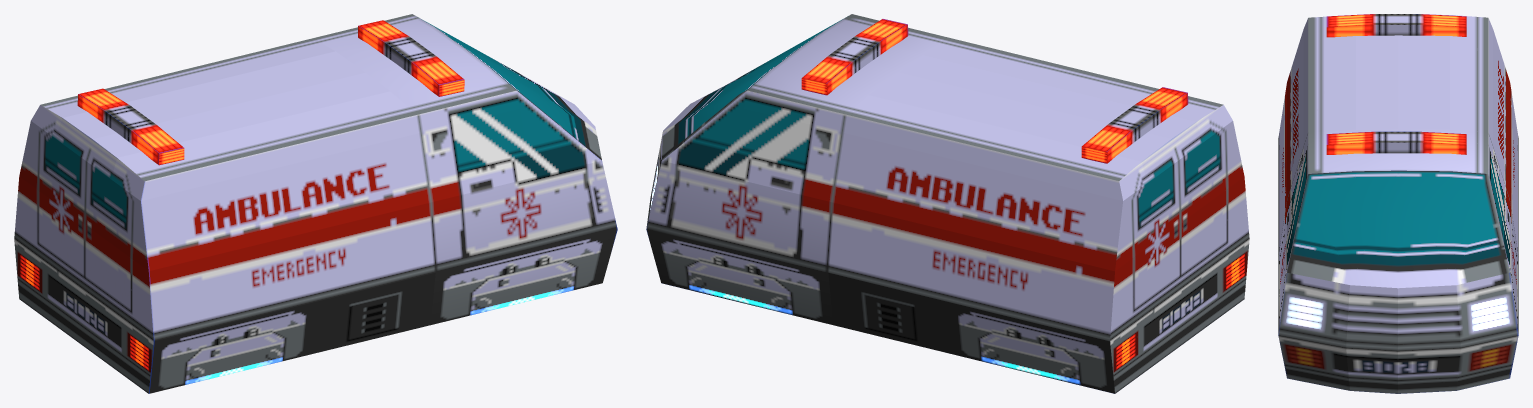
File: ambulance.FBX
The picture shows the model from 3 angles, left to right: view 1: azimuth 30°, elevation 25°; view 2: azimuth 150°, elevation 25°; view 3: azimuth 270°, elevation 25°; orthographic projection. The views are drawn at different scales.
Parts seen in each view (by area): view 1: ambulance; view 2: ambulance; view 3: ambulance.
Boxes of the visible parts, box(x1,y1,x2,y2) form: ambulance: box(14, 14, 617, 393); ambulance: box(646, 14, 1249, 393); ambulance: box(1278, 14, 1518, 393).
Size of the model in its own units: 56.46 by 23.5 by 27.27.
1 material, 1 textured.
